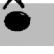correct: (2, 10, 31, 32)
